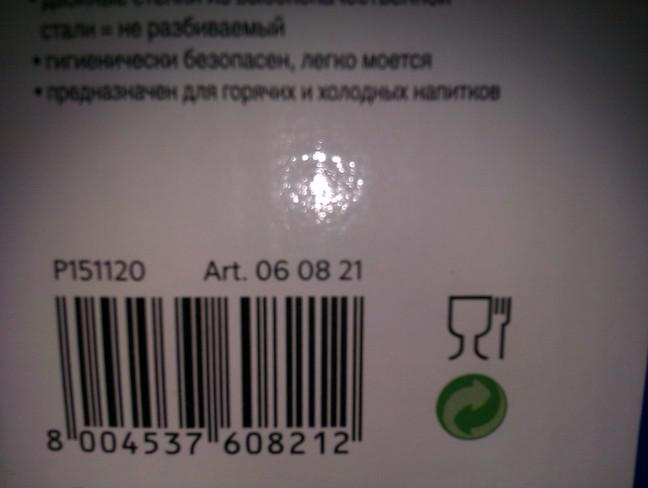Barkod: (16, 290, 379, 464)
